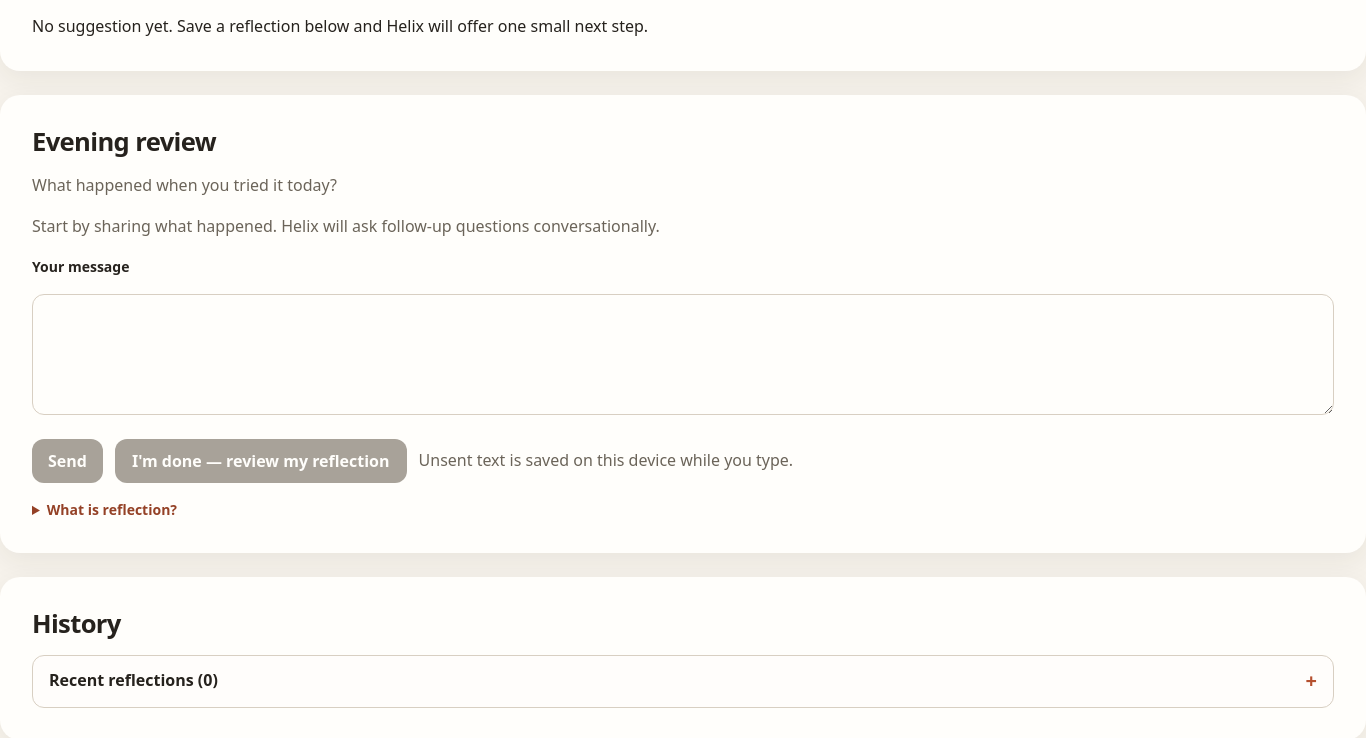
Test: TodayPage › offers a contextual wisdom prompt prefilled from the most specific answer, and saves it
The width and height of the screenshot is (1366, 738).
(page scrolled)
Expected: the text "This reflection may contain a lesson worth keeping" is not shown
Type "I paused twice today." into the text box labelled "Your message".
click(683, 355); type("I paused twice today.")  # box [32, 294, 1334, 415]
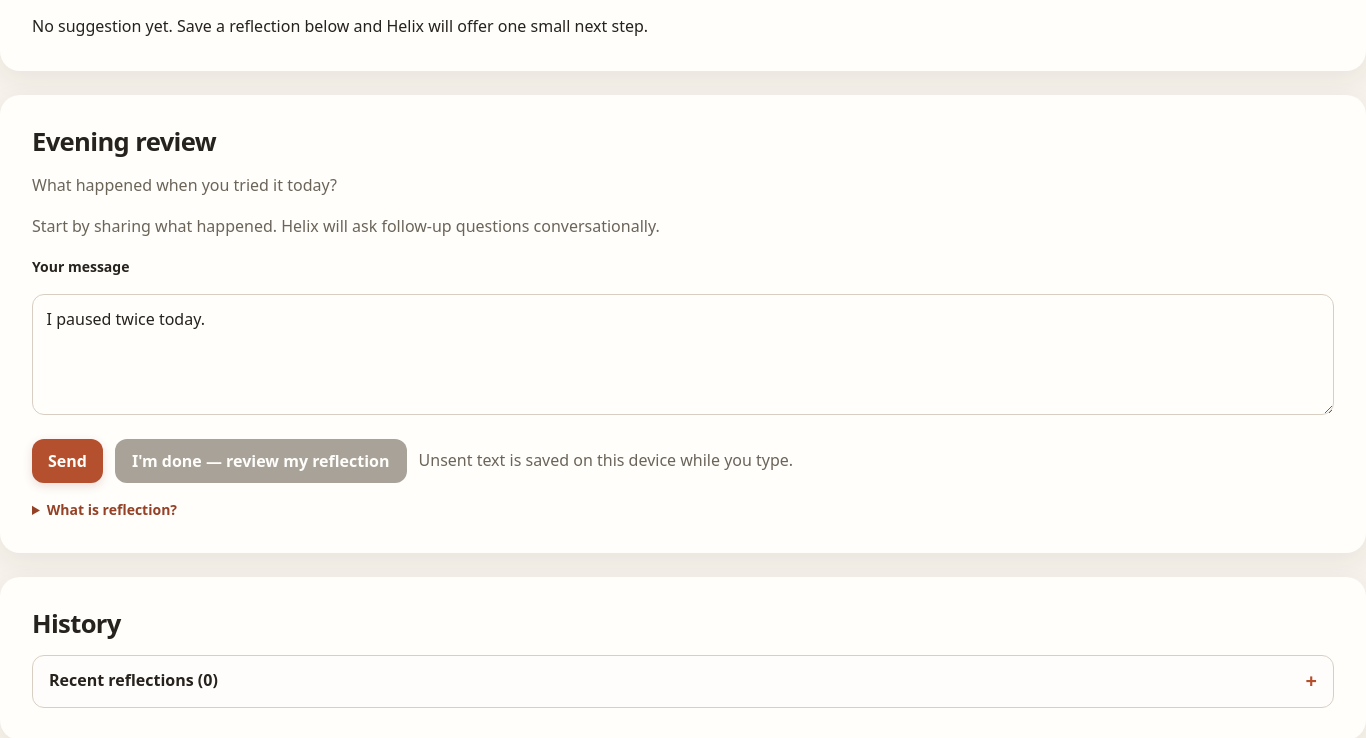
Click the button "Send".
click(67, 461)  # box [32, 439, 103, 483]
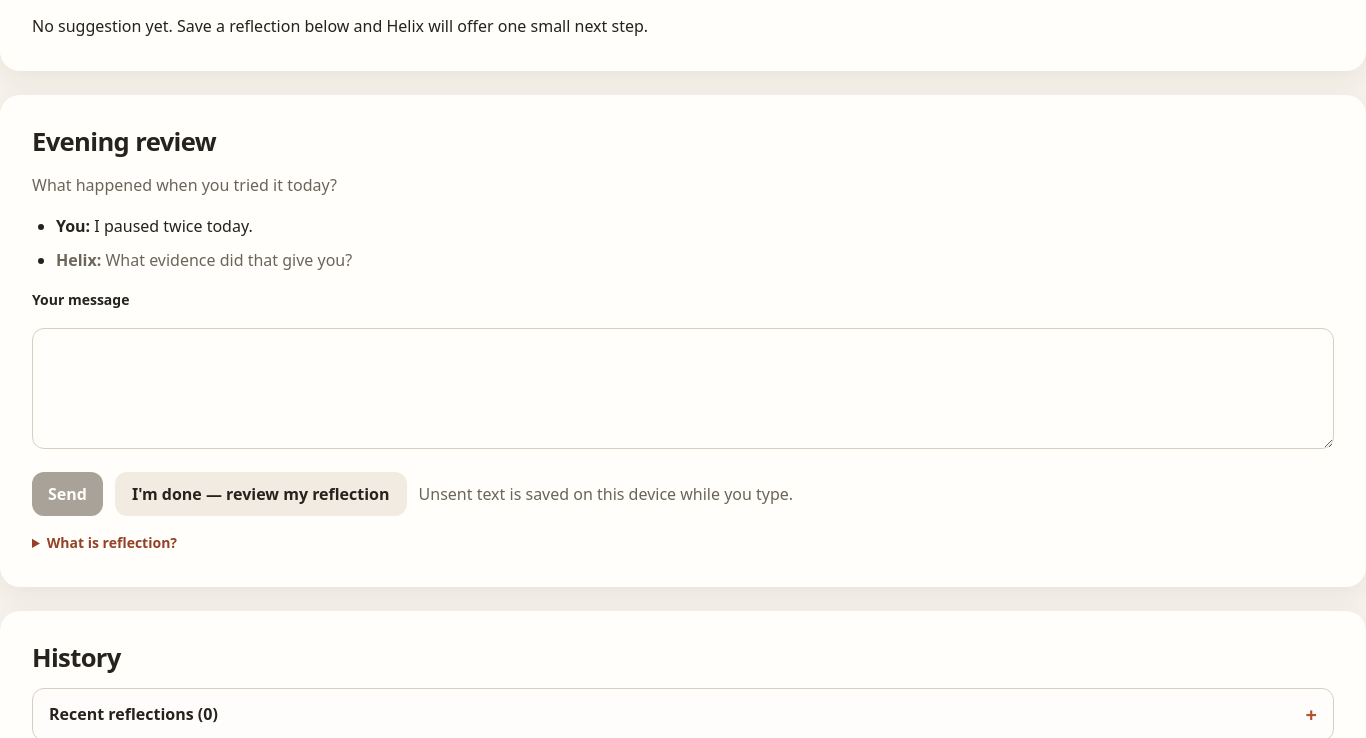
Click the button "I'm done — review my reflection".
click(261, 494)  # box [115, 472, 406, 516]
(page scrolled)
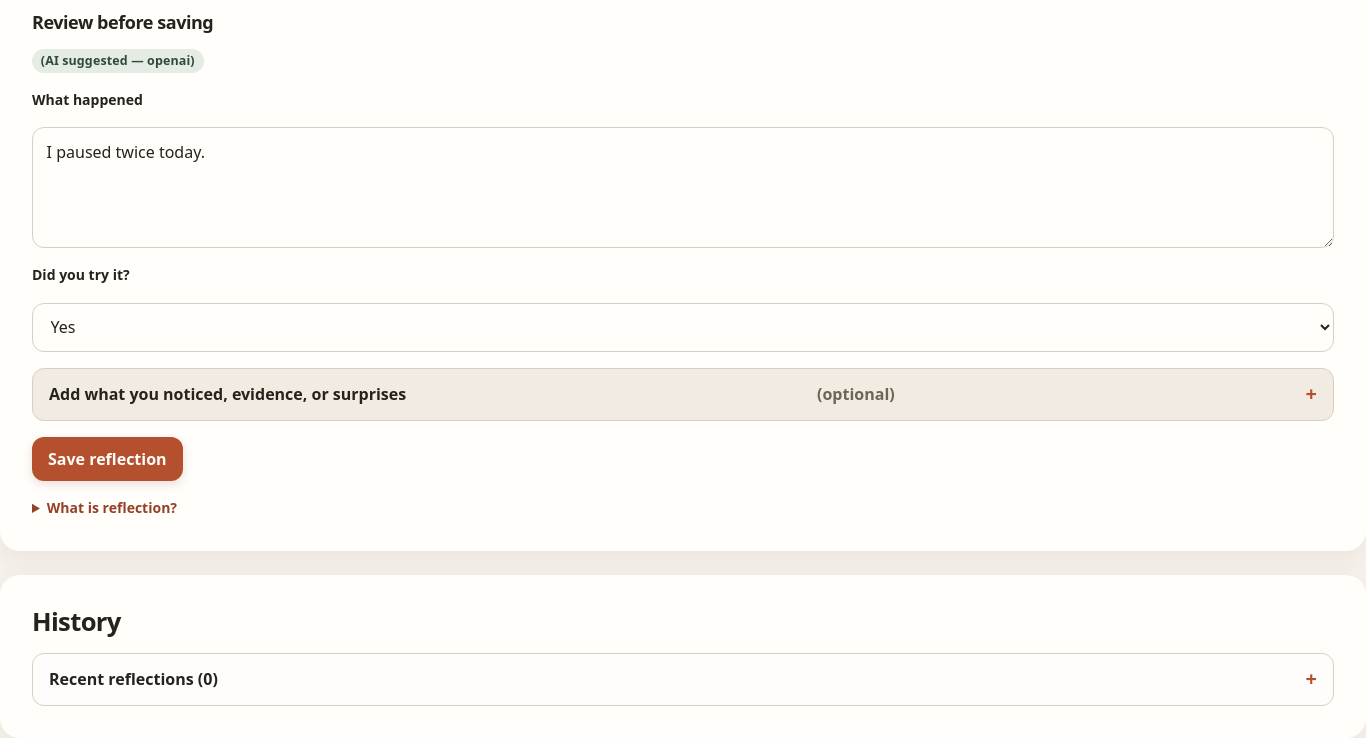
Click the button "Save reflection".
click(107, 459)  # box [32, 437, 183, 481]
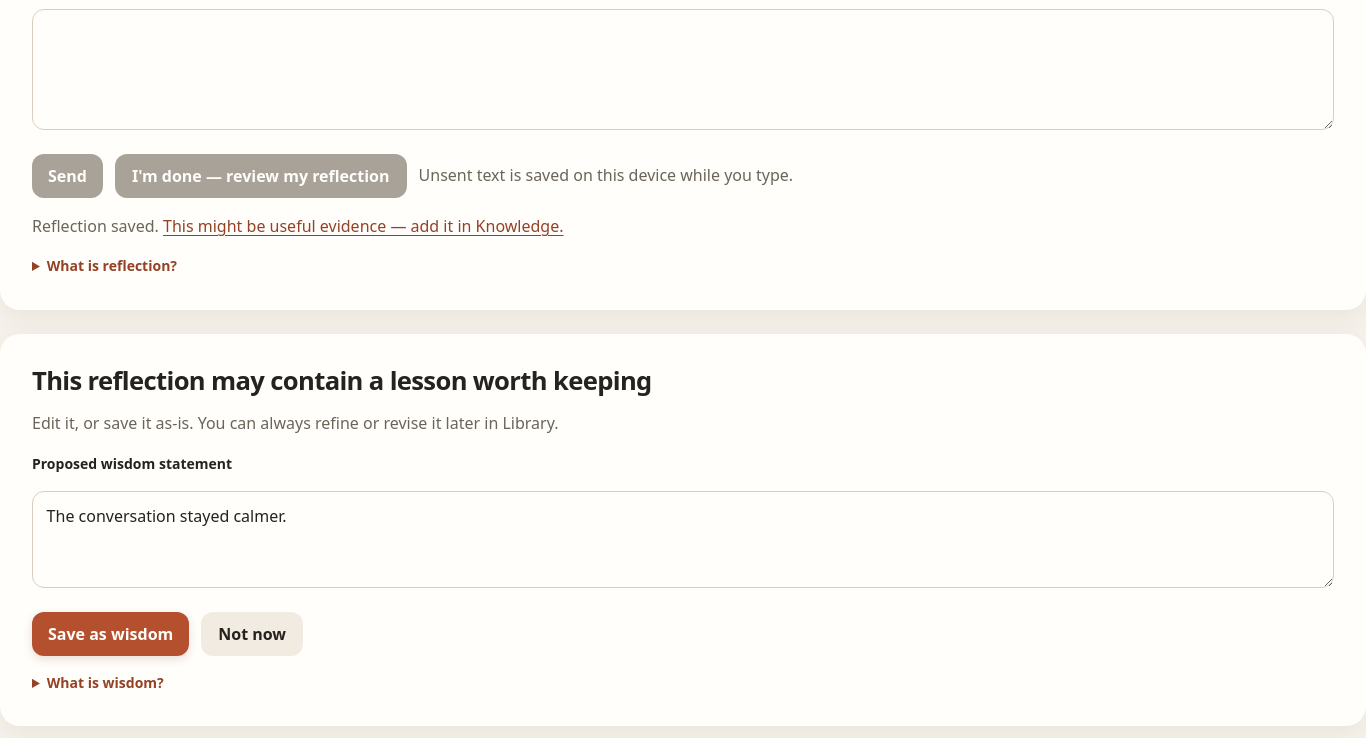
Result: the heading "This reflection may contain a lesson worth keeping" is shown at [32, 363, 652, 398]
Result: the text box labelled "Proposed wisdom statement" holds "The conversation stayed calmer." at [32, 491, 1334, 588]
Click the button "Save as wisdom".
click(111, 634)  # box [32, 612, 189, 656]
(page scrolled)
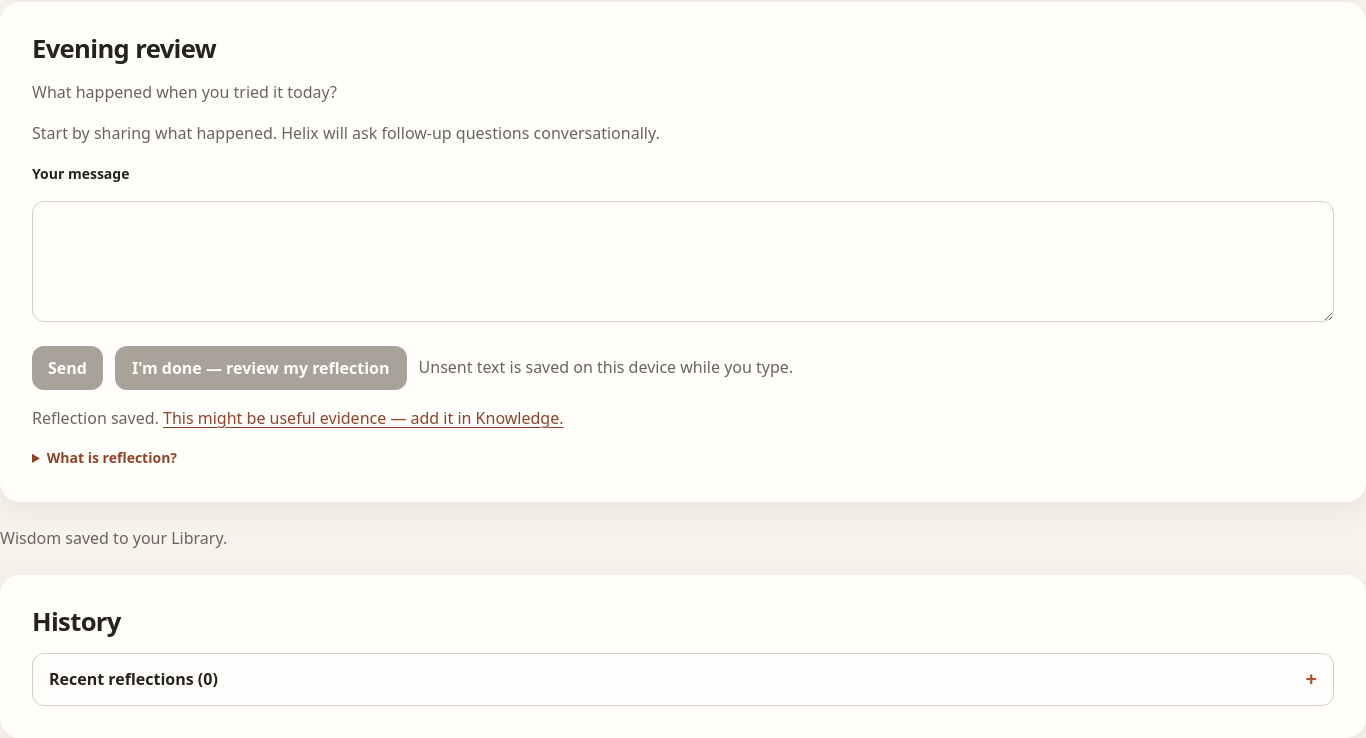
Result: the text "Wisdom saved to your Library." is shown at [0, 527, 227, 549]
Result: the heading "This reflection may contain a lesson worth keeping" is gone
